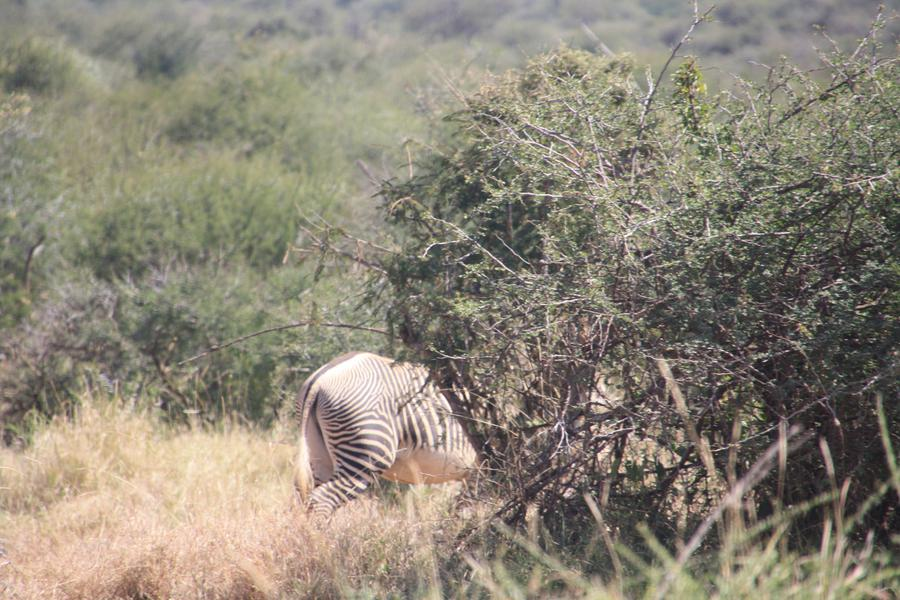zebra_grevys: (306, 338, 450, 466)
